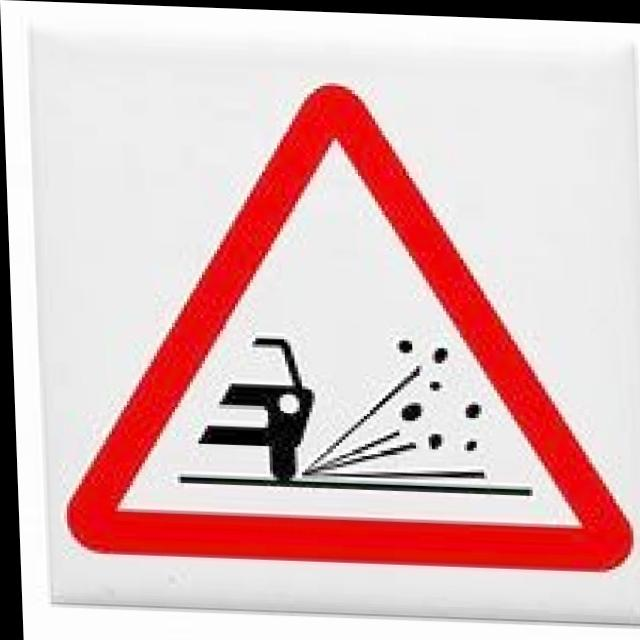LOOSE_GRAVEL: (51, 74, 632, 569)
